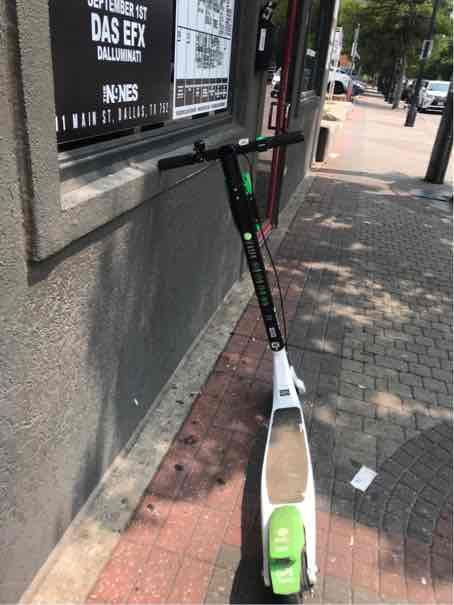scooter: (134, 126, 353, 604)
